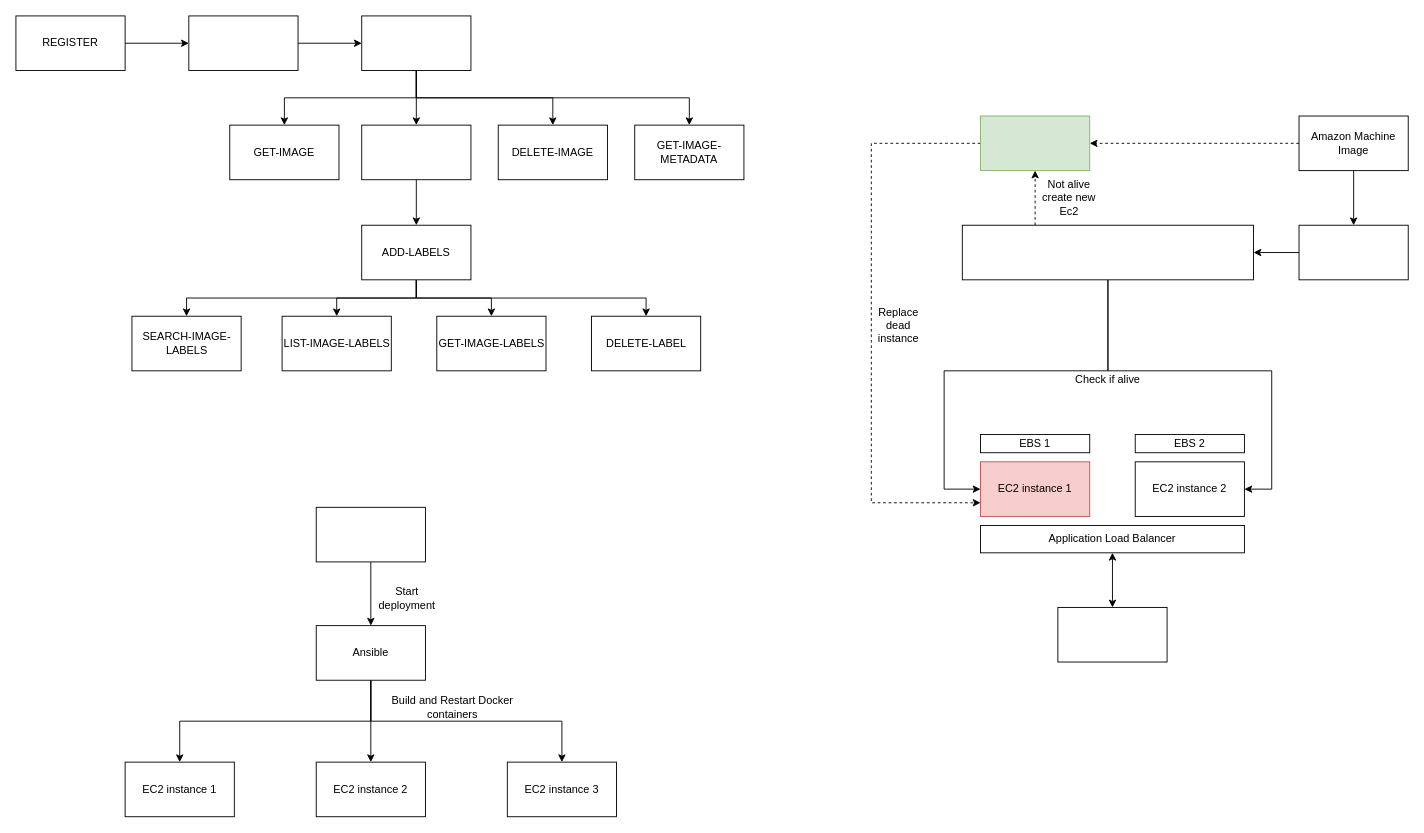
Some shapes in this 1424 by 833 pixel diagram are drawn without their labels. Each missing label, with the centre of its shape:
"Auto Scaling Group" belongs at pixel 1107 252.
"Internet" belongs at pixel 1112 634.
"Jenkins" belongs at pixel 370 534.
"Launch configuration" belongs at pixel 1353 252.
"LIST-IMAGES" belongs at pixel 416 152.
"LOGIN" belongs at pixel 243 43.
"New EC2 Instance" belongs at pixel 1035 143.
"UPLOAD-IMAGES" belongs at pixel 416 43.
